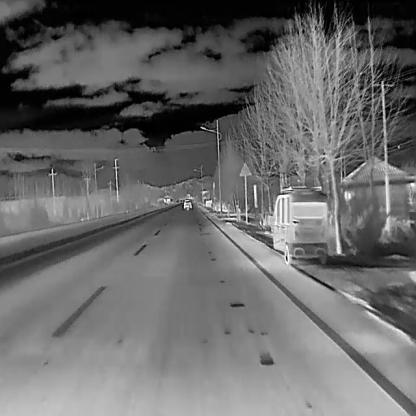car: (262, 184, 330, 265), (182, 198, 192, 209)
